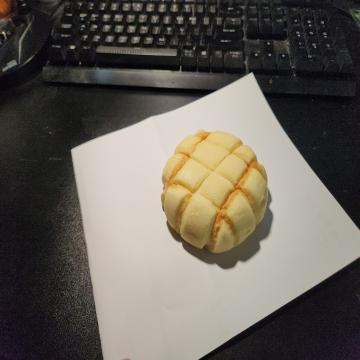melon_bread: (160, 127, 269, 256)
